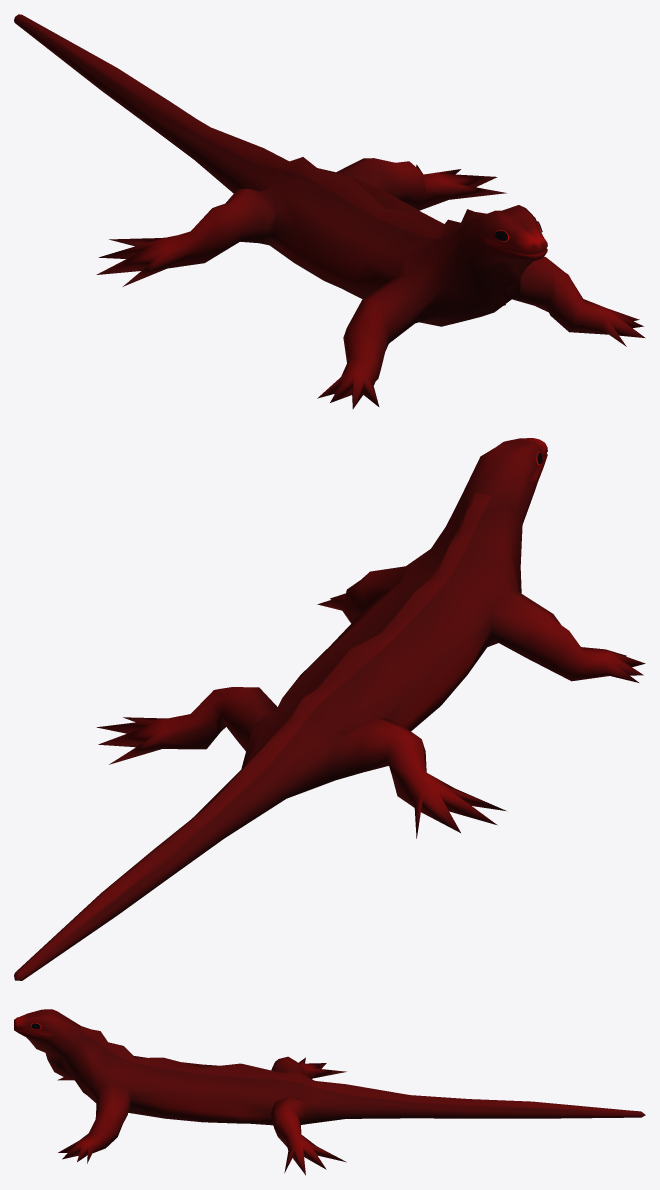
Rendered from Reptiles_GreenIguana.fbx.
3 views of the same model, one above another, from view 1: azimuth 30°, elevation 25°; view 2: azimuth 150°, elevation 25°; view 3: azimuth 270°, elevation 25° (orthographic). The views are drawn at different scales.
Parts seen in each view (by area): view 1: base; view 2: base; view 3: base.
Boxes of the visible parts, x1,y1,x2,y2 form: base: [14, 14, 645, 408]; base: [14, 438, 645, 980]; base: [14, 1009, 645, 1175].
Size of the model in its own units: 75.04 by 30.95 by 169.
